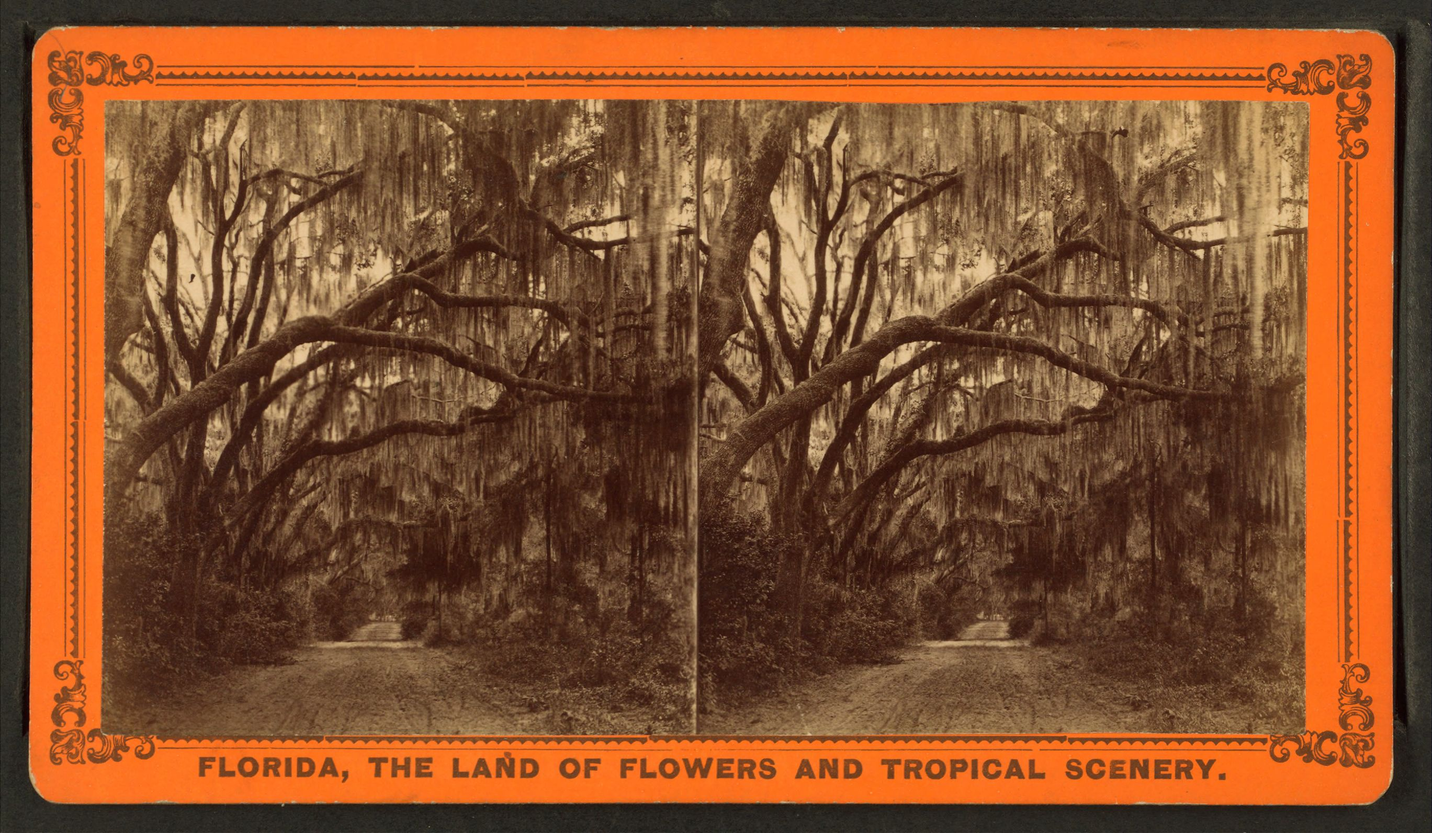half_image: (698, 100, 1309, 735), (103, 99, 697, 735)
